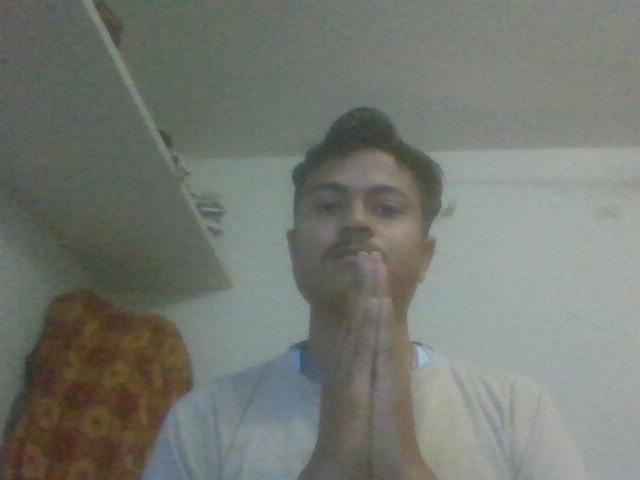Namaste: (289, 238, 466, 480)
